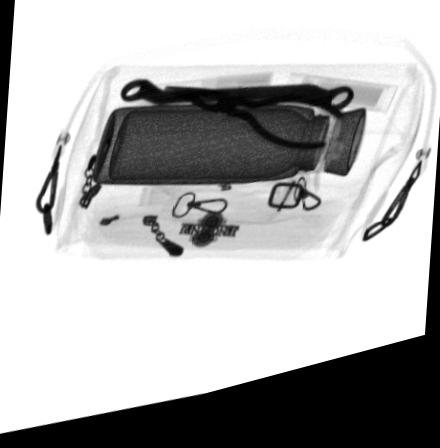Pliers: (164, 97, 345, 167)
Wrench: (117, 86, 356, 130)
